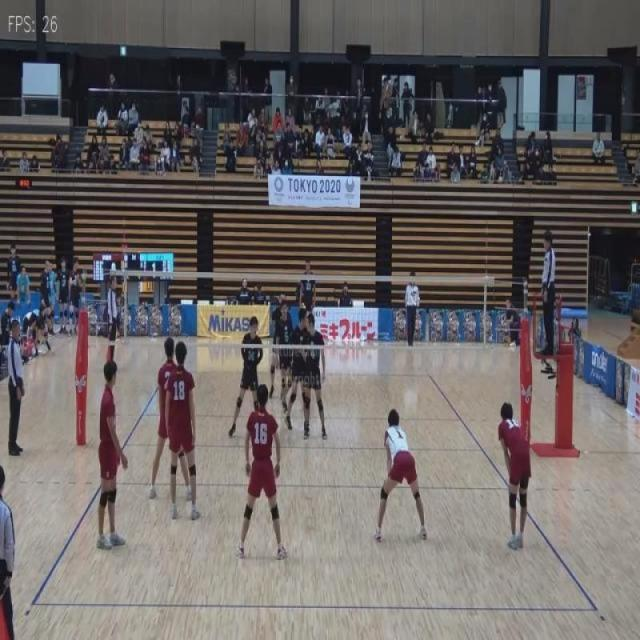volleyball: (300, 302, 306, 310)
